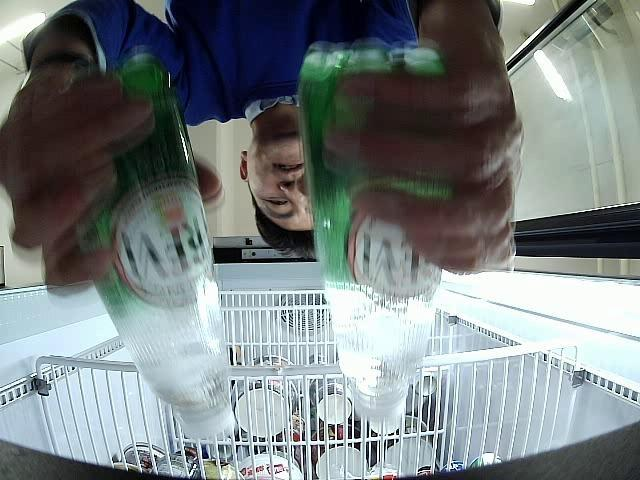18_trevi: (74, 54, 236, 440), (298, 42, 453, 419)
